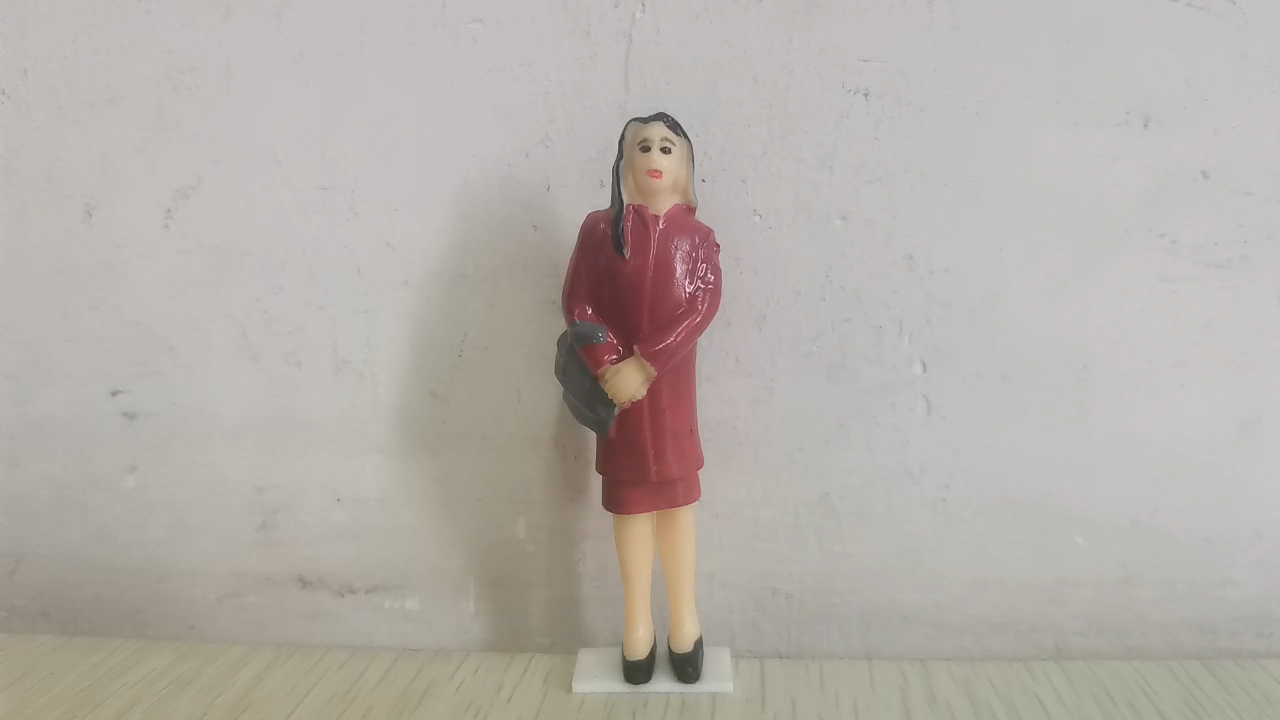person: (550, 109, 725, 688)
